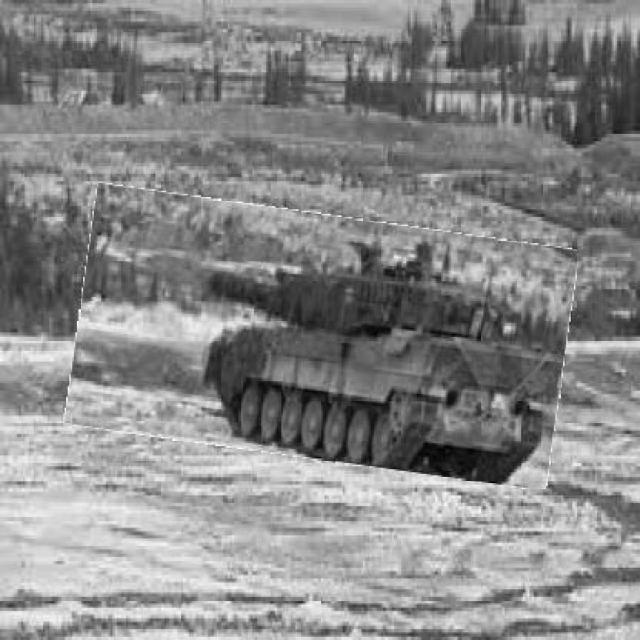Tank: (74, 201, 574, 475)
